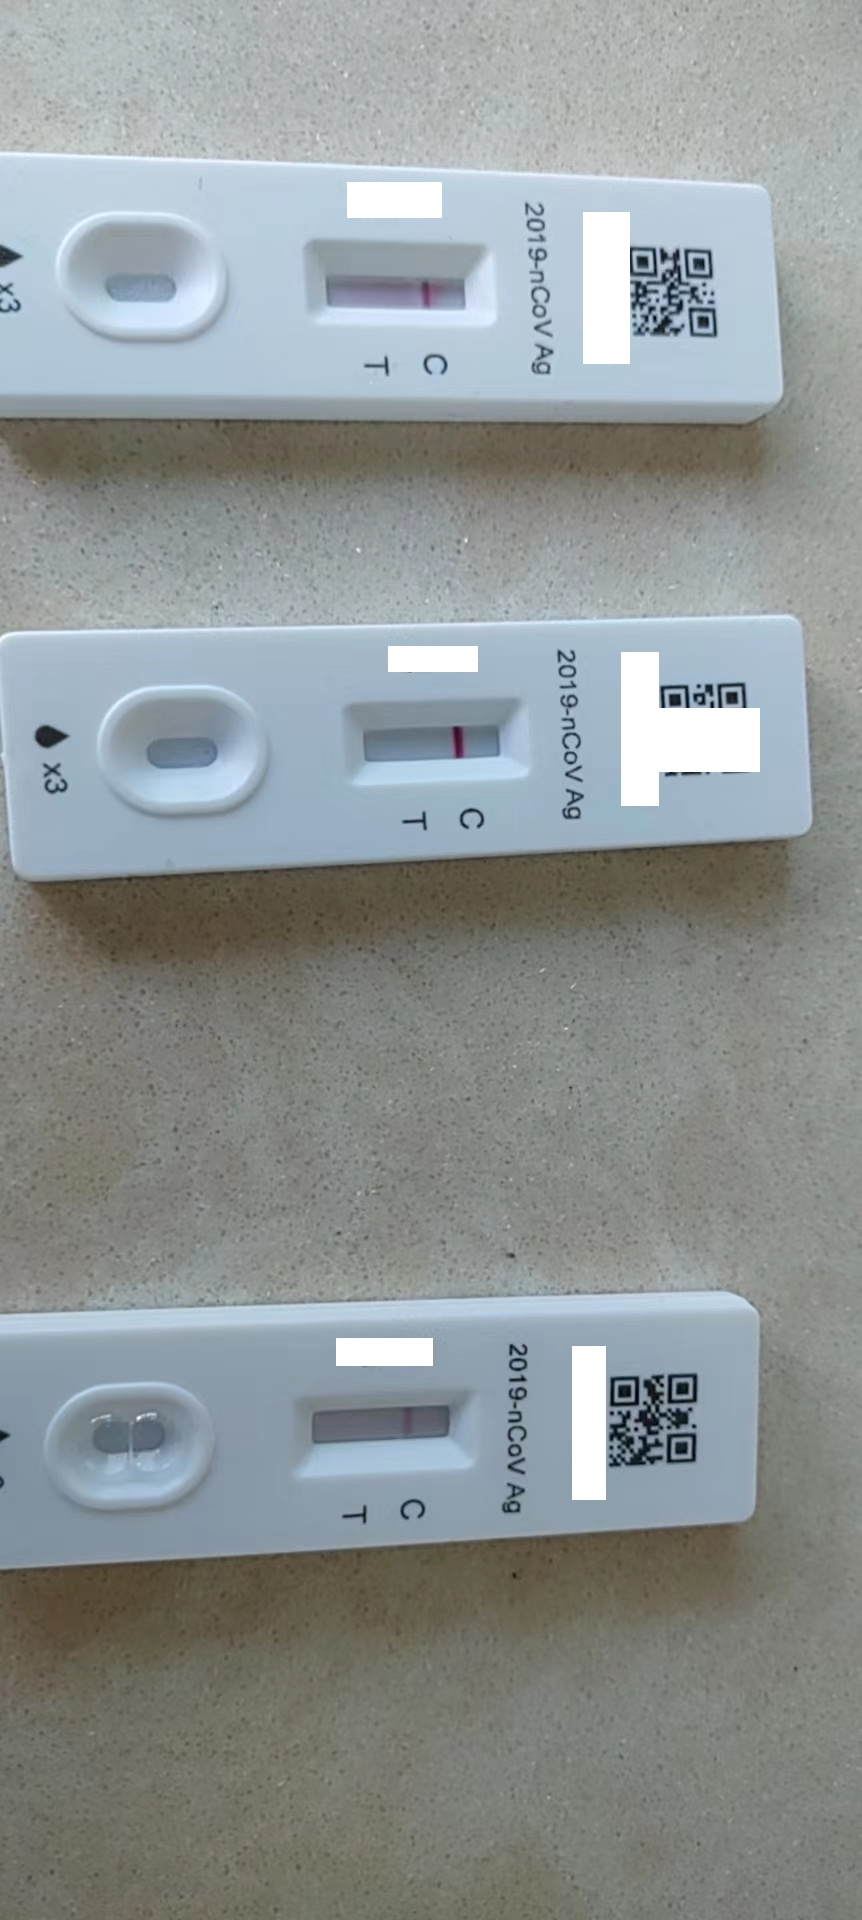negative: (342, 696, 534, 785), (304, 238, 496, 326), (291, 1389, 479, 1476)
